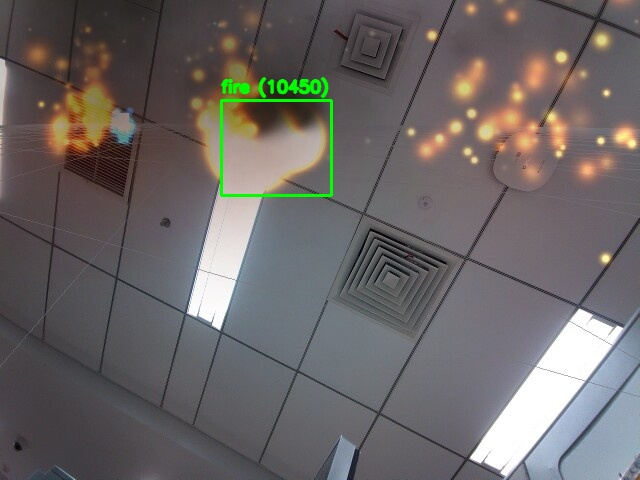fire: (221, 100, 331, 195)
